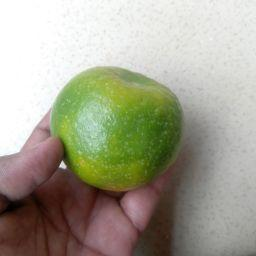Unripe: (51, 65, 183, 192)
